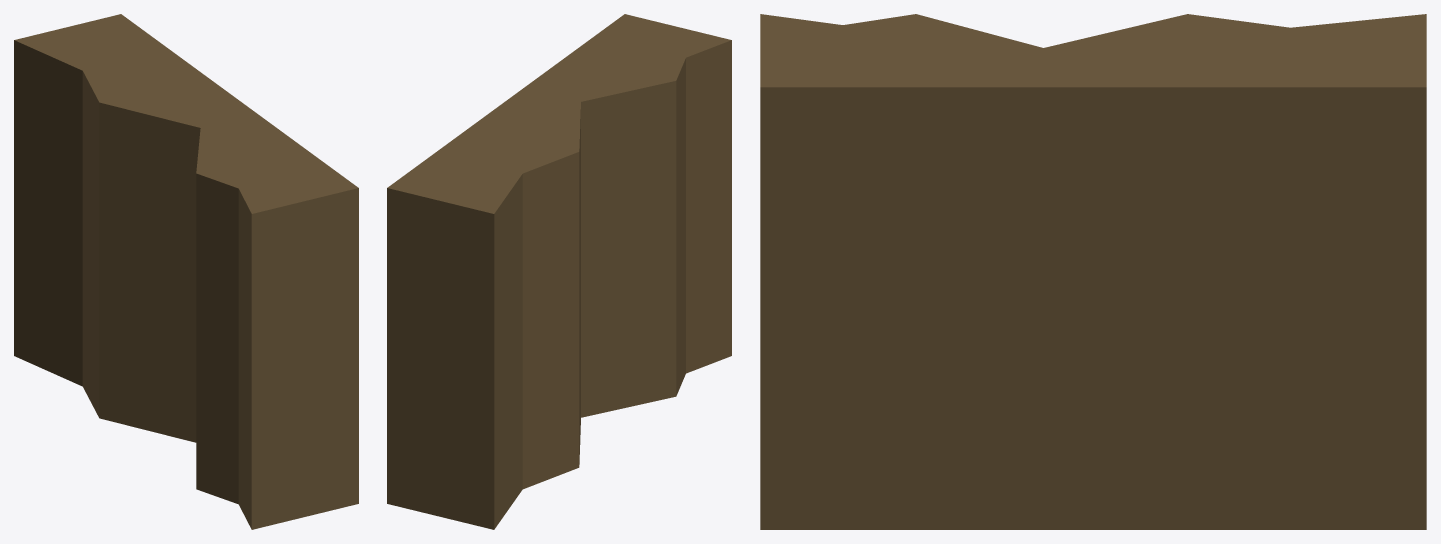
Rendered from Brown_Cliff_01.obj.
3 views of the same model, side by side, from view 1: azimuth 30°, elevation 25°; view 2: azimuth 150°, elevation 25°; view 3: azimuth 270°, elevation 25° (orthographic). The views are drawn at different scales.
Parts seen in each view (by area): view 1: Mesh1_Brown_Cliff_Model; view 2: Mesh1_Brown_Cliff_Model; view 3: Mesh1_Brown_Cliff_Model.
Part boxes in pixels (bbox=[...]): Mesh1_Brown_Cliff_Model: bbox=[14, 14, 358, 529]; Mesh1_Brown_Cliff_Model: bbox=[387, 14, 731, 529]; Mesh1_Brown_Cliff_Model: bbox=[760, 14, 1426, 529].
Bounding box in the file's own units: 0.78 × 2.2 × 3.
